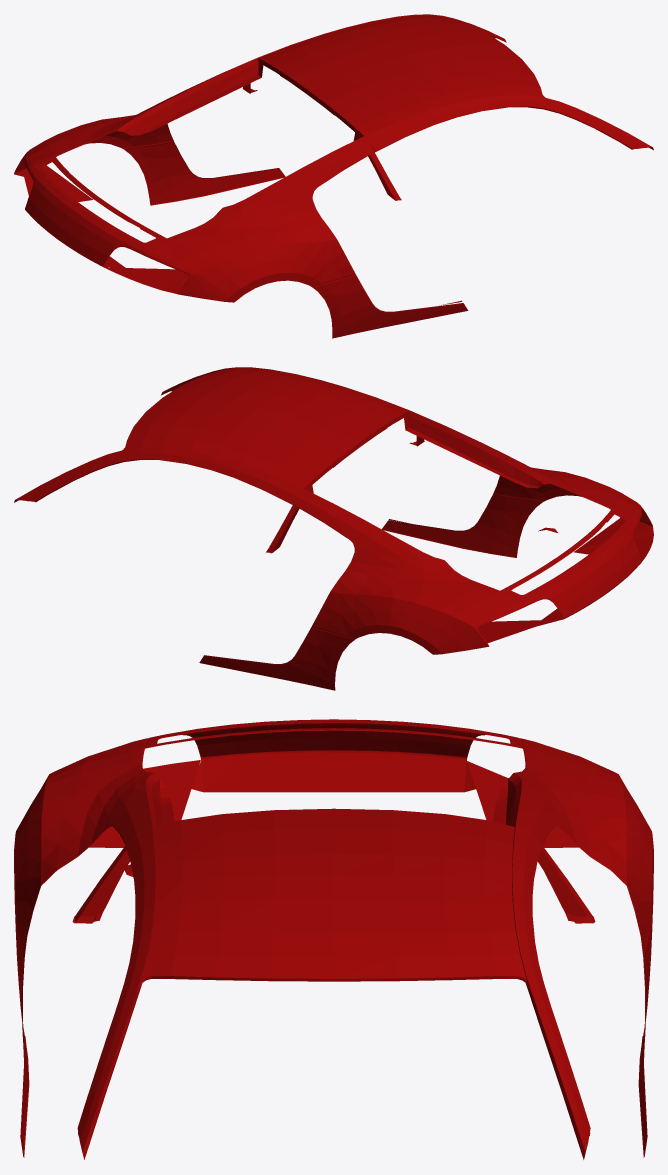
File: body_e.002.dae
3 renders of one model, top to bottom at view 1: azimuth 30°, elevation 25°; view 2: azimuth 150°, elevation 25°; view 3: azimuth 270°, elevation 25°, orthographic. The views are drawn at different scales.
Visible parts, largest first — view 1: body_e; view 2: body_e; view 3: body_e.
Part boxes in pixels (x1,y1,x2,y2): body_e: (14,14,653,338); body_e: (14,367,653,690); body_e: (14,719,653,1159).
Size of the model in its own units: 349 by 217 by 116.
